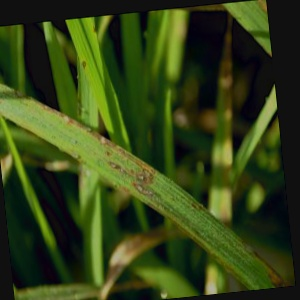Brown_Spot: (124, 176, 156, 205), (98, 159, 124, 181), (138, 162, 157, 185)
